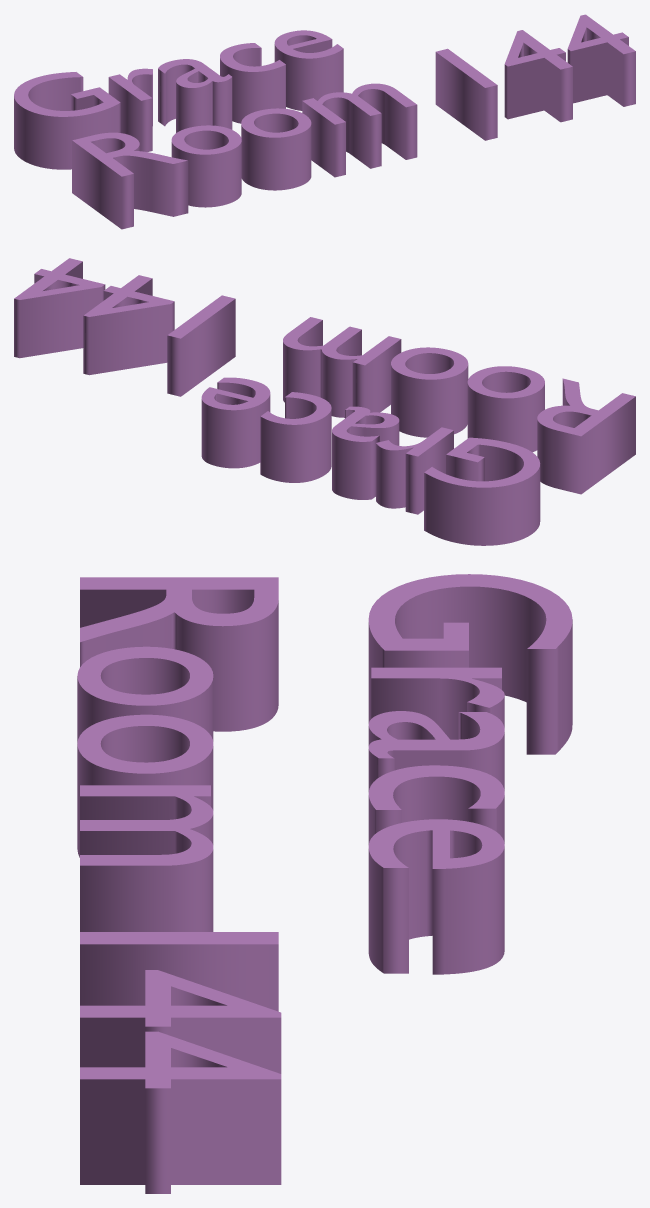
Rendered from grace-144.gltf.
The picture shows the model from 3 angles, top to bottom: view 1: azimuth 30°, elevation 25°; view 2: azimuth 150°, elevation 25°; view 3: azimuth 270°, elevation 25°; orthographic projection. The views are drawn at different scales.
Visible parts, largest first — view 1: Text; view 2: Text; view 3: Text.
Boxes of the visible parts, box(x1,y1,x2,y2) form: Text: box(14, 14, 635, 229); Text: box(14, 258, 635, 545); Text: box(77, 574, 572, 1193).
Size of the model in its own units: 4.18 by 0.4 by 1.7.
